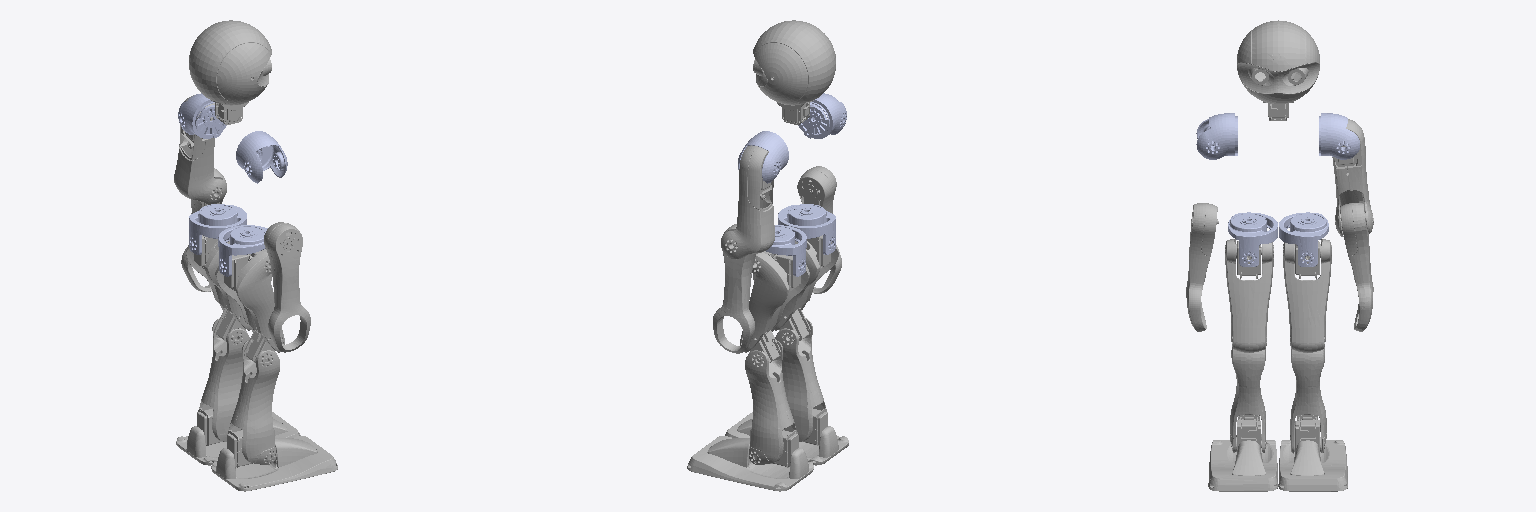
--- What the picture shows (computed from the rendered views, not written in the file) ---
Views: 3 orthographic renders of the robot side by side, from view 1: azimuth 30°, elevation 25°; view 2: azimuth 150°, elevation 25°; view 3: azimuth 270°, elevation 25°.
Robot: Full_E-NIMB — 21 links, 20 joints (20 continuous); root link trunk_link; default pose: all joints at 0.
Visible links, largest first — view 1: head_link, right_shank_link, right_foot_link, right_lower_arm_link, right_thigh_link, left_shank_link, left_upper_arm_link, right_shoulder_pitch_link, left_hip_yaw_link, left_thigh_link, right_hip_yaw_link, left_shoulder_pitch_link (+2 smaller); view 2: head_link, left_shank_link, left_upper_arm_link, left_foot_link, left_thigh_link, right_shank_link, left_lower_arm_link, right_hip_yaw_link, right_lower_arm_link, right_thigh_link, right_shoulder_pitch_link, right_foot_link (+2 smaller); view 3: head_link, left_thigh_link, right_thigh_link, right_foot_link, left_foot_link, right_lower_arm_link, left_lower_arm_link, left_shank_link, right_shank_link, left_upper_arm_link, right_hip_yaw_link, left_hip_yaw_link (+4 smaller).
Boxes of the visible links, bbox=[...] form: head_link: bbox=[189, 20, 271, 110]; right_shank_link: bbox=[229, 340, 279, 464]; right_foot_link: bbox=[211, 436, 337, 491]; right_lower_arm_link: bbox=[264, 222, 310, 352]; right_thigh_link: bbox=[215, 252, 284, 362]; left_shank_link: bbox=[199, 318, 249, 441]; left_upper_arm_link: bbox=[174, 95, 226, 204]; right_shoulder_pitch_link: bbox=[236, 131, 287, 183]; left_hip_yaw_link: bbox=[189, 204, 246, 254]; left_thigh_link: bbox=[186, 241, 250, 340]; right_hip_yaw_link: bbox=[218, 225, 267, 276]; left_shoulder_pitch_link: bbox=[178, 93, 226, 138]; head_link: bbox=[753, 20, 835, 110]; left_shank_link: bbox=[745, 340, 795, 464]; left_upper_arm_link: bbox=[721, 145, 774, 259]; left_foot_link: bbox=[687, 436, 813, 491]; left_thigh_link: bbox=[740, 252, 809, 362]; right_shank_link: bbox=[775, 318, 825, 441]; left_lower_arm_link: bbox=[713, 224, 755, 353]; right_hip_yaw_link: bbox=[778, 204, 835, 254]; right_lower_arm_link: bbox=[797, 166, 841, 293]; right_thigh_link: bbox=[774, 241, 839, 340]; right_shoulder_pitch_link: bbox=[798, 93, 846, 138]; right_foot_link: bbox=[725, 412, 848, 465]; head_link: bbox=[1237, 20, 1319, 103]; left_thigh_link: bbox=[1283, 239, 1331, 352]; right_thigh_link: bbox=[1225, 239, 1273, 352]; right_foot_link: bbox=[1208, 434, 1277, 491]; left_foot_link: bbox=[1278, 440, 1347, 491]; right_lower_arm_link: bbox=[1186, 203, 1218, 331]; left_lower_arm_link: bbox=[1341, 203, 1373, 331]; left_shank_link: bbox=[1290, 347, 1326, 453]; right_shank_link: bbox=[1230, 347, 1265, 452]; left_upper_arm_link: bbox=[1332, 119, 1373, 236]; right_hip_yaw_link: bbox=[1228, 212, 1277, 266]; left_hip_yaw_link: bbox=[1279, 212, 1328, 266].
Bounding box of the posed robot: 0.2402 × 0.3532 × 0.8958 m (x, y, z).
Meshes: 21 distinct files referenced, 19 mesh visuals loaded (19 binary STL); not drawn: 2 (reference not matched to a file when rendering).

The robot description file, URDF, robot "Full_E-NIMB":
<robot
  name="Full_E-NIMB">
  <link
    name="trunk_link">
    <inertial>
      <origin
        xyz="0.010929 0.010975 -0.033969"
        rpy="0 0 0" />
      <mass
        value="0.95645" />
      <inertia
        ixx="0.0033906"
        ixy="6.8628E-07"
        ixz="-9.9175E-05"
        iyy="0.0026138"
        iyz="6.6119E-07"
        izz="0.0011281" />
    </inertial>
    <visual>
      <origin
        xyz="0 0 0"
        rpy="0 0 0" />
      <geometry>
        <mesh
          filename="package://Full_E-NIMB/meshes/trunk_link.STL" />
      </geometry>
      <material
        name="">
        <color
          rgba="0.75294 0.75294 0.75294 1" />
      </material>
    </visual>
    <collision>
      <origin
        xyz="0 0 0"
        rpy="0 0 0" />
      <geometry>
        <mesh
          filename="package://Full_E-NIMB/meshes/trunk_link.STL" />
      </geometry>
    </collision>
  </link>
  <link
    name="right_hip_yaw_link">
    <inertial>
      <origin
        xyz="-0.0012924 0.0054227 -0.020338"
        rpy="0 0 0" />
      <mass
        value="0.070327" />
      <inertia
        ixx="0"
        ixy="0"
        ixz="0"
        iyy="0"
        iyz="0"
        izz="0" />
    </inertial>
    <visual>
      <origin
        xyz="0 0 0"
        rpy="0 0 0" />
      <geometry>
        <mesh
          filename="package://Full_E-NIMB/meshes/right_hip_yaw_link.STL" />
      </geometry>
      <material
        name="">
        <color
          rgba="0.79216 0.81961 0.93333 1" />
      </material>
    </visual>
    <collision>
      <origin
        xyz="0 0 0"
        rpy="0 0 0" />
      <geometry>
        <mesh
          filename="package://Full_E-NIMB/meshes/right_hip_yaw_link.STL" />
      </geometry>
    </collision>
  </link>
  <joint
    name="right_hip_yaw"
    type="continuous">
    <origin
      xyz="0.0031632 -0.043972 -0.14668"
      rpy="0 0 0" />
    <parent
      link="trunk_link" />
    <child
      link="right_hip_yaw_link" />
    <axis
      xyz="0 0 1" />
  </joint>
  <link
    name="right_hip_roll_link">
    <inertial>
      <origin
        xyz="0.0023238 0.01988 -0.010684"
        rpy="0 0 0" />
      <mass
        value="0.18065" />
      <inertia
        ixx="2.1416E-06"
        ixy="3.4231E-07"
        ixz="-2.7542E-06"
        iyy="9.2319E-05"
        iyz="-4.3003E-07"
        izz="9.2381E-05" />
    </inertial>
    <visual>
      <origin
        xyz="0 0 0"
        rpy="0 0 0" />
      <geometry>
        <mesh
          filename="package://Full_E-NIMB/meshes/right_hip_roll_link.STL" />
      </geometry>
      <material
        name="">
        <color
          rgba="0.75294 0.75294 0.75294 1" />
      </material>
    </visual>
    <collision>
      <origin
        xyz="0 0 0"
        rpy="0 0 0" />
      <geometry>
        <mesh
          filename="package://Full_E-NIMB/meshes/right_hip_roll_link.STL" />
      </geometry>
    </collision>
  </link>
  <joint
    name="right_hip_roll"
    type="continuous">
    <origin
      xyz="0.0001 -0.019958 -0.054264"
      rpy="0 0 0" />
    <parent
      link="right_hip_yaw_link" />
    <child
      link="right_hip_roll_link" />
    <axis
      xyz="0.99994 -0.010581 0" />
  </joint>
  <link
    name="right_thigh_link">
    <inertial>
      <origin
        xyz="0.0076986 -0.0002181 -0.18603"
        rpy="0 0 0" />
      <mass
        value="0.087737" />
      <inertia
        ixx="9.6037E-07"
        ixy="2.3153E-07"
        ixz="-1.2712E-07"
        iyy="2.9508E-07"
        iyz="4.0515E-07"
        izz="8.1058E-07" />
    </inertial>
    <visual>
      <origin
        xyz="0 0 0"
        rpy="0 0 0" />
      <geometry>
        <mesh
          filename="package://Full_E-NIMB/meshes/right_thigh_link.STL" />
      </geometry>
      <material
        name="">
        <color
          rgba="0.75294 0.75294 0.75294 1" />
      </material>
    </visual>
    <collision>
      <origin
        xyz="0 0 0"
        rpy="0 0 0" />
      <geometry>
        <mesh
          filename="package://Full_E-NIMB/meshes/right_thigh_link.STL" />
      </geometry>
    </collision>
  </link>
  <joint
    name="right_hip_pitch"
    type="continuous">
    <origin
      xyz="0.02275 0.019858 0.004564"
      rpy="0 0 0" />
    <parent
      link="right_hip_roll_link" />
    <child
      link="right_thigh_link" />
    <axis
      xyz="0 1 0" />
  </joint>
  <link
    name="right_shank_link">
    <inertial>
      <origin
        xyz="-0.004668 -0.0019193 -0.10242"
        rpy="0 0 0" />
      <mass
        value="0.11858" />
      <inertia
        ixx="3.474E-05"
        ixy="5.0622E-07"
        ixz="1.6326E-06"
        iyy="3.1777E-05"
        iyz="-9.8269E-06"
        izz="3.1311E-06" />
    </inertial>
    <visual>
      <origin
        xyz="0 0 0"
        rpy="0 0 0" />
      <geometry>
        <mesh
          filename="package://Full_E-NIMB/meshes/right_shank_link.STL" />
      </geometry>
      <material
        name="">
        <color
          rgba="0.75294 0.75294 0.75294 1" />
      </material>
    </visual>
    <collision>
      <origin
        xyz="0 0 0"
        rpy="0 0 0" />
      <geometry>
        <mesh
          filename="package://Full_E-NIMB/meshes/right_shank_link.STL" />
      </geometry>
    </collision>
  </link>
  <joint
    name="right_knee_pitch"
    type="continuous">
    <origin
      xyz="0 -0.0002 -0.1995"
      rpy="0 0 0" />
    <parent
      link="right_thigh_link" />
    <child
      link="right_shank_link" />
    <axis
      xyz="0 1 0" />
  </joint>
  <link
    name="right_ankle_link">
    <inertial>
      <origin
        xyz="-0.0204296885091848 3.41965016573478E-05 0.0152476745915215"
        rpy="0 0 0" />
      <mass
        value="0.180646325421197" />
      <inertia
        ixx="2.14030426402543E-06"
        ixy="2.90318400088357E-07"
        ixz="2.75452995497299E-06"
        iyy="9.22937045721077E-05"
        iyz="4.52566896952119E-07"
        izz="9.23545505663355E-05" />
    </inertial>
    <visual>
      <origin
        xyz="0 0 0"
        rpy="0 0 0" />
      <geometry>
        <mesh
          filename="package://Full_E-NIMB/meshes/right_ankle_link.STL" />
      </geometry>
      <material
        name="">
        <color
          rgba="0.752941176470588 0.752941176470588 0.752941176470588 1" />
      </material>
    </visual>
    <collision>
      <origin
        xyz="0 0 0"
        rpy="0 0 0" />
      <geometry>
        <mesh
          filename="package://Full_E-NIMB/meshes/right_ankle_link.STL" />
      </geometry>
    </collision>
  </link>
  <joint
    name="right_ankle_pitch"
    type="continuous">
    <origin
      xyz="0.00566881959338658 0 -0.199419443596701"
      rpy="0 0 0" />
    <parent
      link="right_shank_link" />
    <child
      link="right_ankle_link" />
    <axis
      xyz="0 1 0" />
  </joint>
  <link
    name="right_foot_link">
    <inertial>
      <origin
        xyz="0.0565916210023486 -0.00801372527911209 -0.0248327008025211"
        rpy="0 0 0" />
      <mass
        value="0.20491378337616" />
      <inertia
        ixx="1.3167777087754E-05"
        ixy="1.56217595660679E-06"
        ixz="2.91540763072454E-06"
        iyy="0.000101588184541474"
        iyz="-4.63570594124294E-06"
        izz="9.22412313502104E-05" />
    </inertial>
    <visual>
      <origin
        xyz="0 0 0"
        rpy="0 0 0" />
      <geometry>
        <mesh
          filename="package://Full_E-NIMB/meshes/right_foot_link.STL" />
      </geometry>
      <material
        name="">
        <color
          rgba="0.752941176470588 0.752941176470588 0.752941176470588 1" />
      </material>
    </visual>
    <collision>
      <origin
        xyz="0 0 0"
        rpy="0 0 0" />
      <geometry>
        <mesh
          filename="package://Full_E-NIMB/meshes/right_foot_link.STL" />
      </geometry>
    </collision>
  </link>
  <joint
    name="right_ankle_roll"
    type="continuous">
    <origin
      xyz="-0.0227499999998732 9.99999999998641E-05 0"
      rpy="0 0 0" />
    <parent
      link="right_ankle_link" />
    <child
      link="right_foot_link" />
    <axis
      xyz="1 0 0" />
  </joint>
  <link
    name="left_hip_yaw_link">
    <inertial>
      <origin
        xyz="-0.0012941 -0.005425 -0.020342"
        rpy="0 0 0" />
      <mass
        value="0.07034" />
      <inertia
        ixx="0"
        ixy="0"
        ixz="0"
        iyy="0"
        iyz="0"
        izz="0" />
    </inertial>
    <visual>
      <origin
        xyz="0 0 0"
        rpy="0 0 0" />
      <geometry>
        <mesh
          filename="package://Full_E-NIMB/meshes/left_hip_yaw_link.STL" />
      </geometry>
      <material
        name="">
        <color
          rgba="0.79216 0.81961 0.93333 1" />
      </material>
    </visual>
    <collision>
      <origin
        xyz="0 0 0"
        rpy="0 0 0" />
      <geometry>
        <mesh
          filename="package://Full_E-NIMB/meshes/left_hip_yaw_link.STL" />
      </geometry>
    </collision>
  </link>
  <joint
    name="left_hip_yaw"
    type="continuous">
    <origin
      xyz="0.00316324187631698 0.0660280638349792 -0.146683041828748"
      rpy="0 0 0" />
    <parent
      link="trunk_link" />
    <child
      link="left_hip_yaw_link" />
    <axis
      xyz="0 0 1" />
  </joint>
  <link
    name="left_hip_roll_link">
    <inertial>
      <origin
        xyz="0.0023203 6.5803E-05 -0.015248"
        rpy="0 0 0" />
      <mass
        value="0.18065" />
      <inertia
        ixx="2.1403E-06"
        ixy="-2.9032E-07"
        ixz="-2.7545E-06"
        iyy="9.2294E-05"
        iyz="4.5257E-07"
        izz="9.2355E-05" />
    </inertial>
    <visual>
      <origin
        xyz="0 0 0"
        rpy="0 0 0" />
      <geometry>
        <mesh
          filename="package://Full_E-NIMB/meshes/left_hip_roll_link.STL" />
      </geometry>
      <material
        name="">
        <color
          rgba="0.75294 0.75294 0.75294 1" />
      </material>
    </visual>
    <collision>
      <origin
        xyz="0 0 0"
        rpy="0 0 0" />
      <geometry>
        <mesh
          filename="package://Full_E-NIMB/meshes/left_hip_roll_link.STL" />
      </geometry>
    </collision>
  </link>
  <joint
    name="left_hip_roll"
    type="continuous">
    <origin
      xyz="0.000100000000000038 0 -0.0496999999999994"
      rpy="0 0 0" />
    <parent
      link="left_hip_yaw_link" />
    <child
      link="left_hip_roll_link" />
    <axis
      xyz="1 0 0" />
  </joint>
  <link
    name="left_thigh_link">
    <inertial>
      <origin
        xyz="0.00770485647372956 -0.000181895307765551 -0.186031964792609"
        rpy="0 0 0" />
      <mass
        value="0.0877368275115639" />
      <inertia
        ixx="9.60254782182236E-07"
        ixy="-2.31717521450591E-07"
        ixz="-1.27186121101727E-07"
        iyy="2.95081679887299E-07"
        iyz="-4.05040606234051E-07"
        izz="8.10695562468114E-07" />
    </inertial>
    <visual>
      <origin
        xyz="0 0 0"
        rpy="0 0 0" />
      <geometry>
        <mesh
          filename="package://Full_E-NIMB/meshes/left_thigh_link.STL" />
      </geometry>
      <material
        name="">
        <color
          rgba="0.752941176470588 0.752941176470588 0.752941176470588 1" />
      </material>
    </visual>
    <collision>
      <origin
        xyz="0 0 0"
        rpy="0 0 0" />
      <geometry>
        <mesh
          filename="package://Full_E-NIMB/meshes/left_thigh_link.STL" />
      </geometry>
    </collision>
  </link>
  <joint
    name="left_hip_pitch"
    type="continuous">
    <origin
      xyz="0.0227499999998732 9.99999999999474E-05 0"
      rpy="0 0 0" />
    <parent
      link="left_hip_roll_link" />
    <child
      link="left_thigh_link" />
    <axis
      xyz="0 1 0" />
  </joint>
  <link
    name="left_shank_link">
    <inertial>
      <origin
        xyz="-0.00465395531749331 0.00193167769730937 -0.102424147364243"
        rpy="0 0 0" />
      <mass
        value="0.118566755750493" />
      <inertia
        ixx="3.46780337395405E-05"
        ixy="-5.06046287647871E-07"
        ixz="1.63275435857023E-06"
        iyy="3.17230938968361E-05"
        iyz="9.80595420039265E-06"
        izz="3.12345975721964E-06" />
    </inertial>
    <visual>
      <origin
        xyz="0 0 0"
        rpy="0 0 0" />
      <geometry>
        <mesh
          filename="package://Full_E-NIMB/meshes/left_shank_link.STL" />
      </geometry>
      <material
        name="">
        <color
          rgba="0.752941176470588 0.752941176470588 0.752941176470588 1" />
      </material>
    </visual>
    <collision>
      <origin
        xyz="0 0 0"
        rpy="0 0 0" />
      <geometry>
        <mesh
          filename="package://Full_E-NIMB/meshes/left_shank_link.STL" />
      </geometry>
    </collision>
  </link>
  <joint
    name="left_knee_pitch"
    type="continuous">
    <origin
      xyz="0 -0.000199999999999964 -0.1995"
      rpy="0 0 0" />
    <parent
      link="left_thigh_link" />
    <child
      link="left_shank_link" />
    <axis
      xyz="0 1 0" />
  </joint>
  <link
    name="left_ankle_link">
    <inertial>
      <origin
        xyz="-0.0168712002407235 -2.19992893505938E-05 0.0166100283423745"
        rpy="0 0 0" />
      <mass
        value="0.180646325421197" />
      <inertia
        ixx="2.14155493512678E-06"
        ixy="-3.42307999115989E-07"
        ixz="2.75421409465403E-06"
        iyy="9.23193464719824E-05"
        iyz="-4.30025832476118E-07"
        izz="9.23814591916537E-05" />
    </inertial>
    <visual>
      <origin
        xyz="0 0 0"
        rpy="0 0 0" />
      <geometry>
        <mesh
          filename="package://Full_E-NIMB/meshes/left_ankle_link.STL" />
      </geometry>
      <material
        name="">
        <color
          rgba="0.752941176470588 0.752941176470588 0.752941176470588 1" />
      </material>
    </visual>
    <collision>
      <origin
        xyz="0 0 0"
        rpy="0 0 0" />
      <geometry>
        <mesh
          filename="package://Full_E-NIMB/meshes/left_ankle_link.STL" />
      </geometry>
    </collision>
  </link>
  <joint
    name="left_ankle_pitch"
    type="continuous">
    <origin
      xyz="0.00211380670416902 0 -0.200781795890427"
      rpy="0 0 0" />
    <parent
      link="left_shank_link" />
    <child
      link="left_ankle_link" />
    <axis
      xyz="0 1 0" />
  </joint>
  <link
    name="left_foot_link">
    <inertial>
      <origin
        xyz="0.056586704250218 0.00702324964754164 -0.024832540701792"
        rpy="0 0 0" />
      <mass
        value="0.204884251089932" />
      <inertia
        ixx="1.3161689549123E-05"
        ixy="-1.5686184553092E-06"
        ixz="2.91261550573071E-06"
        iyy="0.000101586341377897"
        iyz="4.62816323606983E-06"
        izz="9.2233201130411E-05" />
    </inertial>
    <visual>
      <origin
        xyz="0 0 0"
        rpy="0 0 0" />
      <geometry>
        <mesh
          filename="package://Full_E-NIMB/meshes/left_foot_link.STL" />
      </geometry>
      <material
        name="">
        <color
          rgba="0.752941176470588 0.752941176470588 0.752941176470588 1" />
      </material>
    </visual>
    <collision>
      <origin
        xyz="0 0 0"
        rpy="0 0 0" />
      <geometry>
        <mesh
          filename="package://Full_E-NIMB/meshes/left_foot_link.STL" />
      </geometry>
    </collision>
  </link>
  <joint
    name="left_ankle_roll"
    type="continuous">
    <origin
      xyz="-0.0191949871106555 0.000900000000000067 0.00136235229372628"
      rpy="0 0 0" />
    <parent
      link="left_ankle_link" />
    <child
      link="left_foot_link" />
    <axis
      xyz="0.999938071081334 0.0111289712975131 0" />
  </joint>
  <link
    name="right_shoulder_pitch_link">
    <inertial>
      <origin
        xyz="2.82826975434637E-05 -0.0227886656303254 -0.0025950565989533"
        rpy="0 0 0" />
      <mass
        value="0.0690238318921817" />
      <inertia
        ixx="0"
        ixy="0"
        ixz="0"
        iyy="0"
        iyz="0"
        izz="0" />
    </inertial>
    <visual>
      <origin
        xyz="0 0 0"
        rpy="0 0 0" />
      <geometry>
        <mesh
          filename="package://Full_E-NIMB/meshes/right_shoulder_pitch_link.STL" />
      </geometry>
      <material
        name="">
        <color
          rgba="0.792156862745098 0.819607843137255 0.933333333333333 1" />
      </material>
    </visual>
    <collision>
      <origin
        xyz="0 0 0"
        rpy="0 0 0" />
      <geometry>
        <mesh
          filename="package://Full_E-NIMB/meshes/right_shoulder_pitch_link.STL" />
      </geometry>
    </collision>
  </link>
  <joint
    name="right_shoulder_pitch"
    type="continuous">
    <origin
      xyz="0.00316324187631709 -0.0704719361650205 0.0353669581712522"
      rpy="0 0 0" />
    <parent
      link="trunk_link" />
    <child
      link="right_shoulder_pitch_link" />
    <axis
      xyz="0 1 0" />
  </joint>
  <link
    name="right_upper_arm_link">
    <inertial>
      <origin
        xyz="1.55814216551541E-05 -0.00162225891283573 -0.0148698732335418"
        rpy="0 0 0" />
      <mass
        value="0.073632973819968" />
      <inertia
        ixx="2.74971464521444E-07"
        ixy="-4.38677125356601E-08"
        ixz="-4.02098160342423E-07"
        iyy="8.66734605727297E-07"
        iyz="-2.96457202633418E-08"
        izz="5.9823166089924E-07" />
    </inertial>
    <visual>
      <origin
        xyz="0 0 0"
        rpy="0 0 0" />
      <geometry>
        <mesh
          filename="package://Full_E-NIMB/meshes/right_upper_arm_link.STL" />
      </geometry>
      <material
        name="">
        <color
          rgba="0.752941176470588 0.752941176470588 0.752941176470588 1" />
      </material>
    </visual>
    <collision>
      <origin
        xyz="0 0 0"
        rpy="0 0 0" />
      <geometry>
        <mesh
          filename="package://Full_E-NIMB/meshes/right_upper_arm_link.STL" />
      </geometry>
    </collision>
  </link>
  <joint
    name="right_shoulder_roll"
    type="continuous">
    <origin
      xyz="0.000800000000000029 -0.0414124235214479 -0.0100011504458025"
      rpy="0 0 0" />
    <parent
      link="right_shoulder_pitch_link" />
    <child
      link="right_upper_arm_link" />
    <axis
      xyz="1 0 0" />
  </joint>
  <link
    name="right_lower_arm_link">
    <inertial>
      <origin
        xyz="-1.08174316379439E-09 -0.00163774725934879 -0.0148681834679882"
        rpy="0 0 0" />
      <mass
        value="0.0736329729613269" />
      <inertia
        ixx="8.69968868765391E-07"
        ixy="2.69224040952967E-14"
        ixz="-2.29406078011064E-14"
        iyy="3.65953518300814E-07"
        iyz="4.29471990681732E-07"
        izz="5.0401535046458E-07" />
    </inertial>
    <visual>
      <origin
        xyz="0 0 0"
        rpy="0 0 0" />
      <geometry>
        <mesh
          filename="package://Full_E-NIMB/meshes/right_lower_arm_link.STL" />
      </geometry>
      <material
        name="">
        <color
          rgba="0.752941176470588 0.752941176470588 0.752941176470588 1" />
      </material>
    </visual>
    <collision>
      <origin
        xyz="0 0 0"
        rpy="0 0 0" />
      <geometry>
        <mesh
          filename="package://Full_E-NIMB/meshes/right_lower_arm_link.STL" />
      </geometry>
    </collision>
  </link>
  <joint
    name="right_elbow_pitch"
    type="continuous">
    <origin
      xyz="0.0268999999999999 -0.0169820073740797 -0.156581836192923"
      rpy="0 0 0" />
    <parent
      link="right_upper_arm_link" />
    <child
      link="right_lower_arm_link" />
    <axis
      xyz="0 0.994101529196566 -0.108453444615874" />
  </joint>
  <link
    name="left_shoulder_pitch_link">
    <inertial>
      <origin
        xyz="3.68294089842895E-05 0.0228037750587586 -0.00260115485045407"
        rpy="0 0 0" />
      <mass
        value="0.0690466027030056" />
      <inertia
        ixx="0"
        ixy="0"
        ixz="0"
        iyy="0"
        iyz="0"
        izz="0" />
    </inertial>
    <visual>
      <origin
        xyz="0 0 0"
        rpy="0 0 0" />
      <geometry>
        <mesh
          filename="package://Full_E-NIMB/meshes/left_shoulder_pitch_link.STL" />
      </geometry>
      <material
        name="">
        <color
          rgba="0.792156862745098 0.819607843137255 0.933333333333333 1" />
      </material>
    </visual>
    <collision>
      <origin
        xyz="0 0 0"
        rpy="0 0 0" />
      <geometry>
        <mesh
          filename="package://Full_E-NIMB/meshes/left_shoulder_pitch_link.STL" />
      </geometry>
    </collision>
  </link>
  <joint
    name="left_shoulder_pitch"
    type="continuous">
    <origin
      xyz="0.00316324187631711 0.0925280638349795 0.0353669581712522"
      rpy="0 0 0" />
    <parent
      link="trunk_link" />
    <child
      link="left_shoulder_pitch_link" />
    <axis
      xyz="0 1 0" />
  </joint>
  <link
    name="left_upper_arm_link">
    <inertial>
      <origin
        xyz="1.5581421671791E-05 0.00189882901644226 -0.0148370921121416"
        rpy="0 0 0" />
      <mass
        value="0.0736329738227649" />
      <inertia
        ixx="2.74971464540907E-07"
        ixy="5.13464803850889E-08"
        ixz="-4.01211721809277E-07"
        iyy="8.65537819266129E-07"
        iyz="3.46233609890552E-08"
        izz="5.99428447377318E-07" />
    </inertial>
    <visual>
      <origin
        xyz="0 0 0"
        rpy="0 0 0" />
      <geometry>
        <mesh
          filename="package://Full_E-NIMB/meshes/left_upper_arm_link.STL" />
      </geometry>
      <material
        name="">
        <color
          rgba="0.752941176470588 0.752941176470588 0.752941176470588 1" />
      </material>
    </visual>
    <collision>
      <origin
        xyz="0 0 0"
        rpy="0 0 0" />
      <geometry>
        <mesh
          filename="package://Full_E-NIMB/meshes/left_upper_arm_link.STL" />
      </geometry>
    </collision>
  </link>
  <joint
    name="left_shoulder_roll"
    type="continuous">
    <origin
      xyz="0.000799999999999962 0.0414124235214481 -0.0100011504458026"
      rpy="0 0 0" />
    <parent
      link="left_shoulder_pitch_link" />
    <child
      link="left_upper_arm_link" />
    <axis
      xyz="1 0 0" />
  </joint>
  <link
    name="left_lower_arm_link">
    <inertial>
      <origin
        xyz="0.000858599582491987 0.00883445221332618 -0.054567695678908"
        rpy="0 0 0" />
      <mass
        value="0.14220055912703" />
      <inertia
        ixx="0.000249255716702434"
        ixy="-9.0732203766427E-07"
        ixz="5.20944785707559E-06"
        iyy="0.000241567440897288"
        iyz="4.15555732258231E-05"
        izz="7.91342221796559E-06" />
    </inertial>
    <visual>
      <origin
        xyz="0 0 0"
        rpy="0 0 0" />
      <geometry>
        <mesh
          filename="package://Full_E-NIMB/meshes/left_lower_arm_link.STL" />
      </geometry>
      <material
        name="">
        <color
          rgba="0.752941176470588 0.752941176470588 0.752941176470588 1" />
      </material>
    </visual>
    <collision>
      <origin
        xyz="0 0 0"
        rpy="0 0 0" />
      <geometry>
        <mesh
          filename="package://Full_E-NIMB/meshes/left_lower_arm_link.STL" />
      </geometry>
    </collision>
  </link>
  <joint
    name="left_elbow_pitch"
    type="continuous">
    <origin
      xyz="0.0269000000000003 0.0198943693660165 -0.156238516594114"
      rpy="0 0 0" />
    <parent
      link="left_upper_arm_link" />
    <child
      link="left_lower_arm_link" />
    <axis
      xyz="0 0.991909982667118 0.126943240408133" />
  </joint>
  <link
    name="neck_link">
    <inertial>
      <origin
        xyz="-0.00023387356046315 8.12482959642487E-05 0.0306786945524138"
        rpy="0 0 0" />
      <mass
        value="0.0765058369511012" />
      <inertia
        ixx="3.52314214783384E-06"
        ixy="1.00286615574452E-10"
        ixz="3.6785302331309E-08"
        iyy="2.92863505796844E-06"
        iyz="3.97252886802013E-07"
        izz="5.95527128758955E-07" />
    </inertial>
    <visual>
      <origin
        xyz="0 0 0"
        rpy="0 0 0" />
      <geometry>
        <mesh
          filename="package://Full_E-NIMB/meshes/neck_link.STL" />
      </geometry>
      <material
        name="">
        <color
          rgba="0.752941176470588 0.752941176470588 0.752941176470588 1" />
      </material>
    </visual>
    <collision>
      <origin
        xyz="0 0 0"
        rpy="0 0 0" />
      <geometry>
        <mesh
          filename="package://Full_E-NIMB/meshes/neck_link.STL" />
      </geometry>
    </collision>
  </link>
  <joint
    name="neck_yaw"
    type="continuous">
    <origin
      xyz="-0.0048368 0.011028 0.068167"
      rpy="0 0 0" />
    <parent
      link="trunk_link" />
    <child
      link="neck_link" />
    <axis
      xyz="0 0 1" />
  </joint>
  <link
    name="head_link">
    <inertial>
      <origin
        xyz="0.00398890756804758 -0.000110803129132073 0.0686986997026738"
        rpy="0 0 0" />
      <mass
        value="0.195909652361941" />
      <inertia
        ixx="0.000341219231882817"
        ixy="-2.68253343359366E-07"
        ixz="5.37607871209407E-06"
        iyy="8.1224638915362E-05"
        iyz="3.07131326168665E-08"
        izz="0.000406154766736708" />
    </inertial>
    <visual>
      <origin
        xyz="0 0 0"
        rpy="0 0 0" />
      <geometry>
        <mesh
          filename="package://Full_E-NIMB/meshes/head_link.STL" />
      </geometry>
      <material
        name="">
        <color
          rgba="0.752941176470588 0.752941176470588 0.752941176470588 1" />
      </material>
    </visual>
    <collision>
      <origin
        xyz="0 0 0"
        rpy="0 0 0" />
      <geometry>
        <mesh
          filename="package://Full_E-NIMB/meshes/head_link.STL" />
      </geometry>
    </collision>
  </link>
  <joint
    name="head_pitch"
    type="continuous">
    <origin
      xyz="-0.00025 0.0001 0.0468"
      rpy="0 0 0" />
    <parent
      link="neck_link" />
    <child
      link="head_link" />
    <axis
      xyz="0 1 0" />
  </joint>
</robot>
